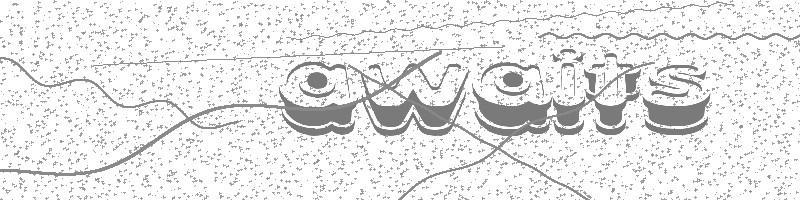a: (274, 58, 360, 138), (471, 57, 553, 137)
i: (552, 45, 587, 138)
s: (642, 59, 711, 136)
t: (585, 49, 642, 138)
w: (362, 59, 469, 135)
